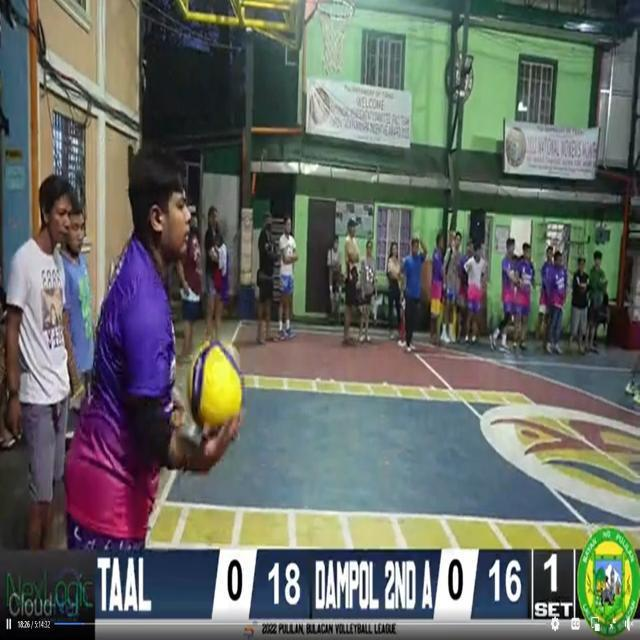volleyball: (189, 342, 244, 428)
